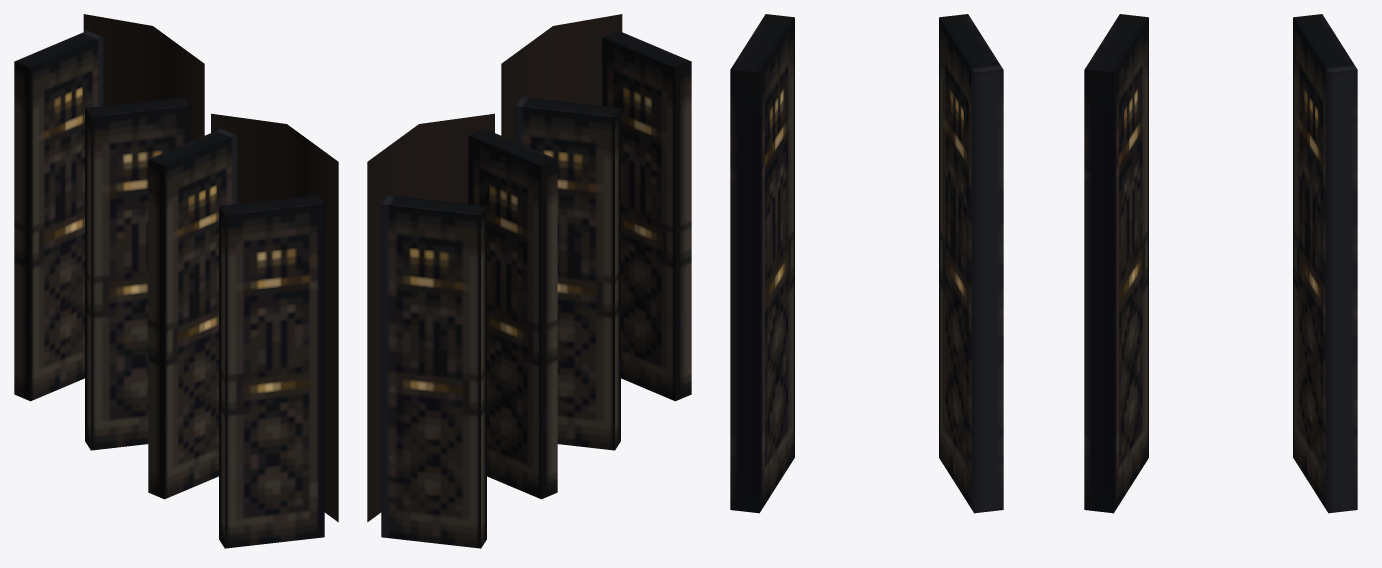
File: ObjMD_Daiseido_Door_Open.FBX
The picture shows the model from 3 angles, left to right: view 1: azimuth 30°, elevation 25°; view 2: azimuth 150°, elevation 25°; view 3: azimuth 270°, elevation 25°; orthographic projection. The views are drawn at different scales.
Visible parts, largest first — view 1: ObjMD_Daiseido_Door_Open; view 2: ObjMD_Daiseido_Door_Open; view 3: ObjMD_Daiseido_Door_Open.
Boxes of the visible parts, bbox=[...] form: ObjMD_Daiseido_Door_Open: bbox=[14, 14, 338, 548]; ObjMD_Daiseido_Door_Open: bbox=[367, 14, 691, 548]; ObjMD_Daiseido_Door_Open: bbox=[730, 14, 1357, 513].
Bounding box in the file's own units: 119 × 325 × 400.
